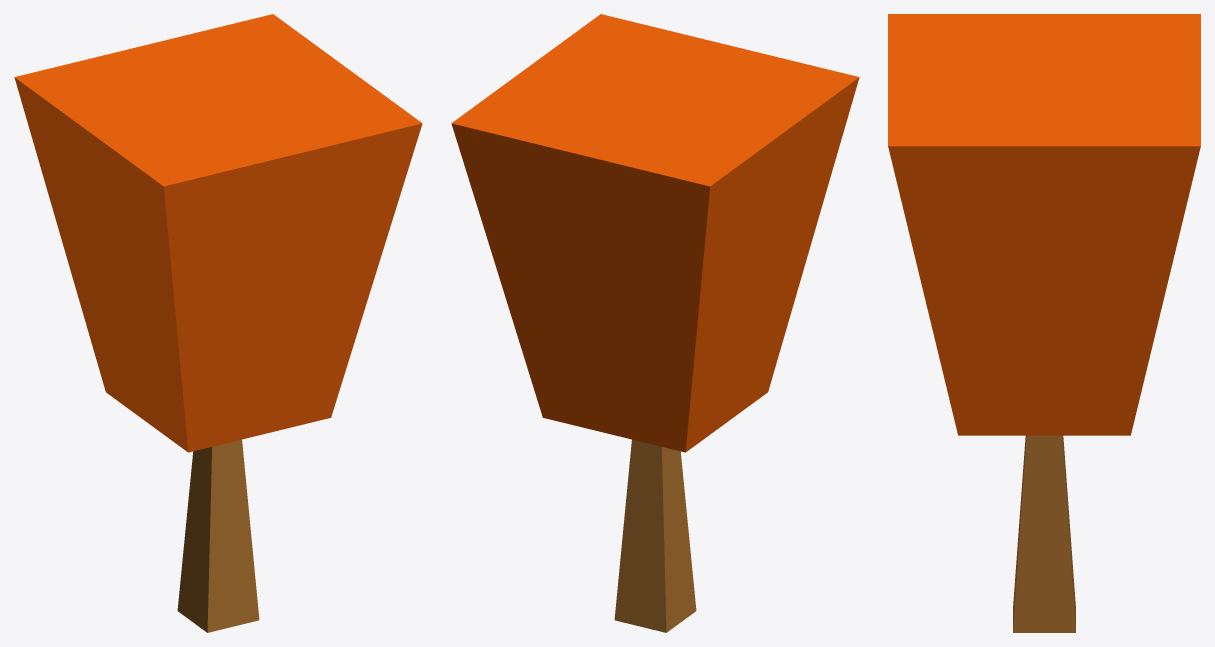
The model's file is tree_06.fbx.
3 renders of one model, left to right at view 1: azimuth 30°, elevation 25°; view 2: azimuth 150°, elevation 25°; view 3: azimuth 270°, elevation 25°, orthographic. The views are drawn at different scales.
Parts seen in each view (by area): view 1: tree_06; view 2: tree_06; view 3: tree_06.
Part boxes in pixels (x1,y1,x2,y2): tree_06: (14, 14, 422, 632); tree_06: (451, 14, 859, 632); tree_06: (888, 14, 1200, 632).
Size of the model in its own units: 2.57 by 4.89 by 2.57.
